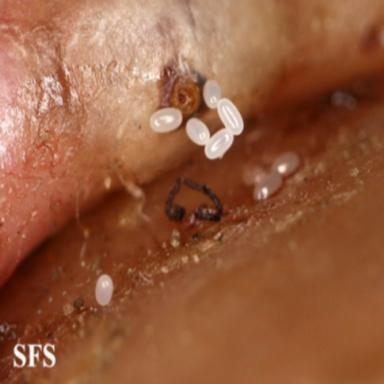Tungiasis: (150, 62, 244, 158), (166, 178, 223, 221)
